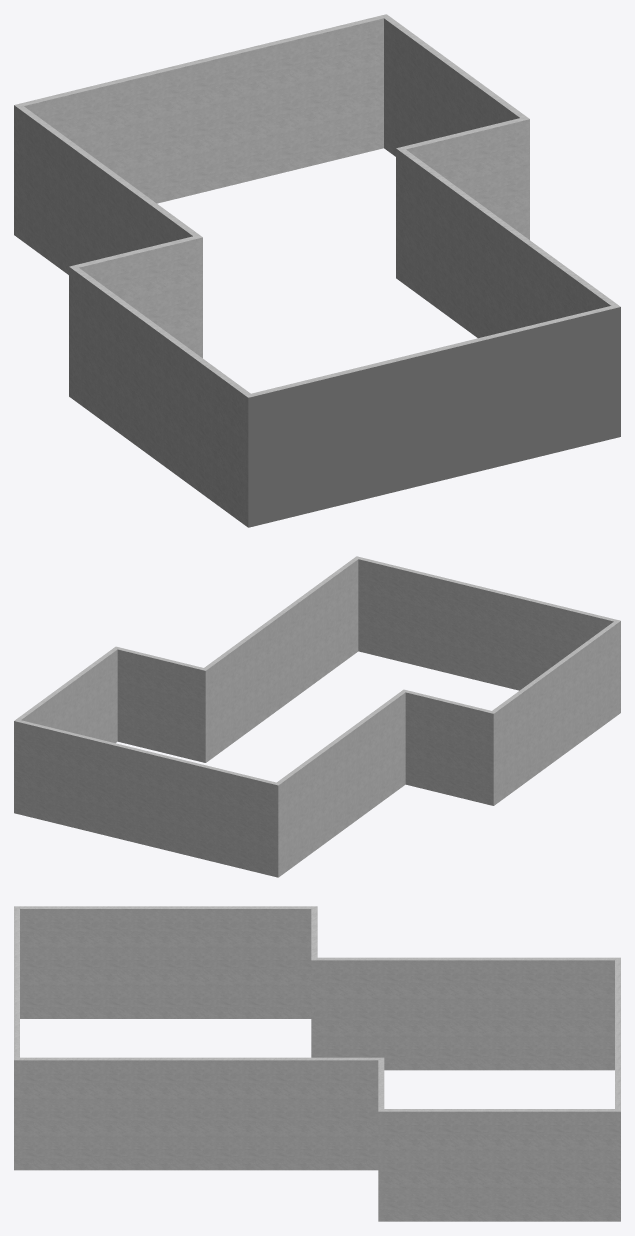
The model's file is walls.gltf.
The picture shows the model from 3 angles, top to bottom: view 1: azimuth 30°, elevation 25°; view 2: azimuth 150°, elevation 25°; view 3: azimuth 270°, elevation 25°; orthographic projection. The views are drawn at different scales.
Parts seen in each view (by area): view 1: root; view 2: root; view 3: root.
Boxes of the visible parts, x1,y1,x2,y2 form: root: (14,14,620,527); root: (14,556,620,877); root: (14,906,620,1221).
Size of the model in its own units: 8 by 2 by 10.
2 materials, 1 textured.
